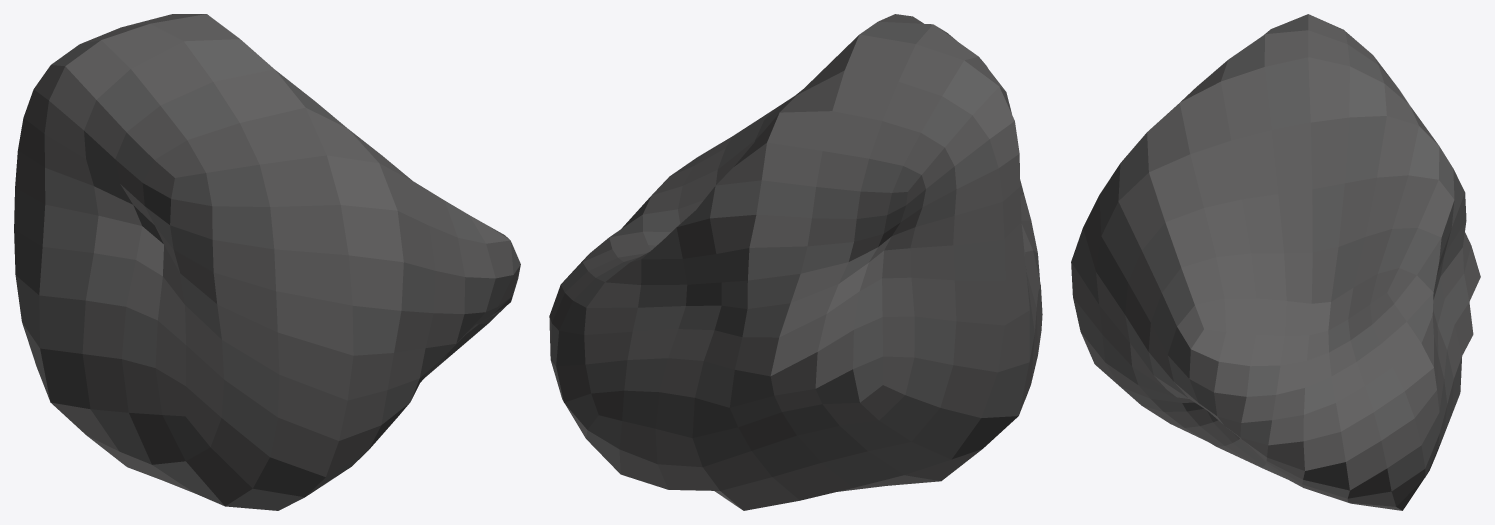
The model's file is rock7.fbx.
3 views of the same model, side by side, from view 1: azimuth 30°, elevation 25°; view 2: azimuth 150°, elevation 25°; view 3: azimuth 270°, elevation 25° (orthographic). The views are drawn at different scales.
Parts seen in each view (by area): view 1: rock7; view 2: rock7; view 3: rock7.
Part boxes in pixels (<box>): rock7: <box>14,14,520,510</box>; rock7: <box>549,14,1042,510</box>; rock7: <box>1071,14,1480,510</box>.
Size of the model in its own units: 143 by 141 by 129.
